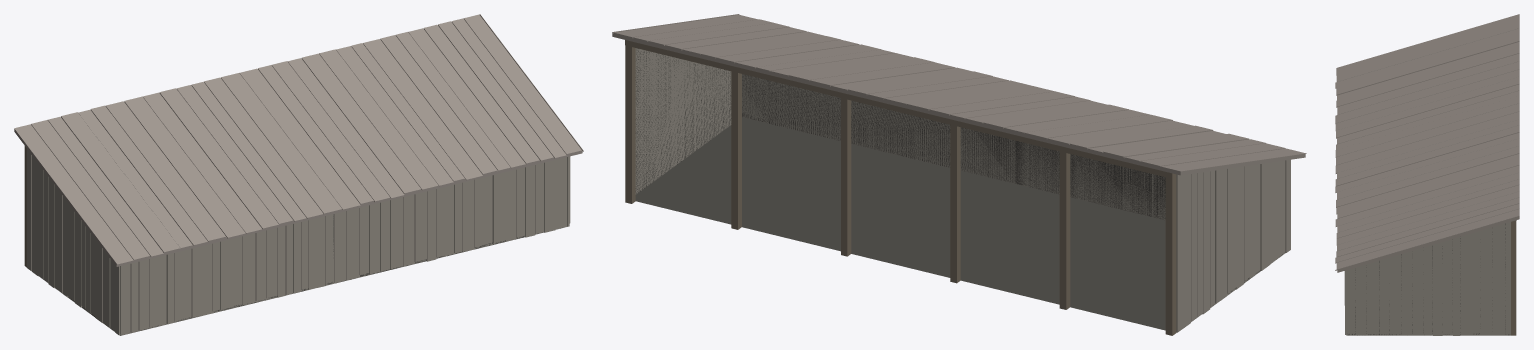
File: brickyard_north_side__yard_1833.glb
3 views of the same model, side by side, from view 1: azimuth 30°, elevation 25°; view 2: azimuth 150°, elevation 25°; view 3: azimuth 270°, elevation 25° (orthographic). The views are drawn at different scales.
Parts seen in each view (by area): view 1: brickyard_north_side__yard_1833; view 2: brickyard_north_side__yard_1833; view 3: brickyard_north_side__yard_1833.
Part boxes in pixels (x1,y1,x2,y2): brickyard_north_side__yard_1833: (14,14,583,335); brickyard_north_side__yard_1833: (612,14,1306,335); brickyard_north_side__yard_1833: (1335,14,1519,335).
Bounding box in the file's own units: 14.54 × 4.15 × 5.6.
